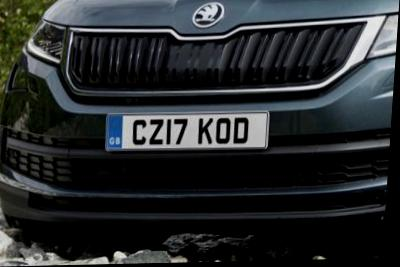License_Plate: (104, 109, 269, 149)
